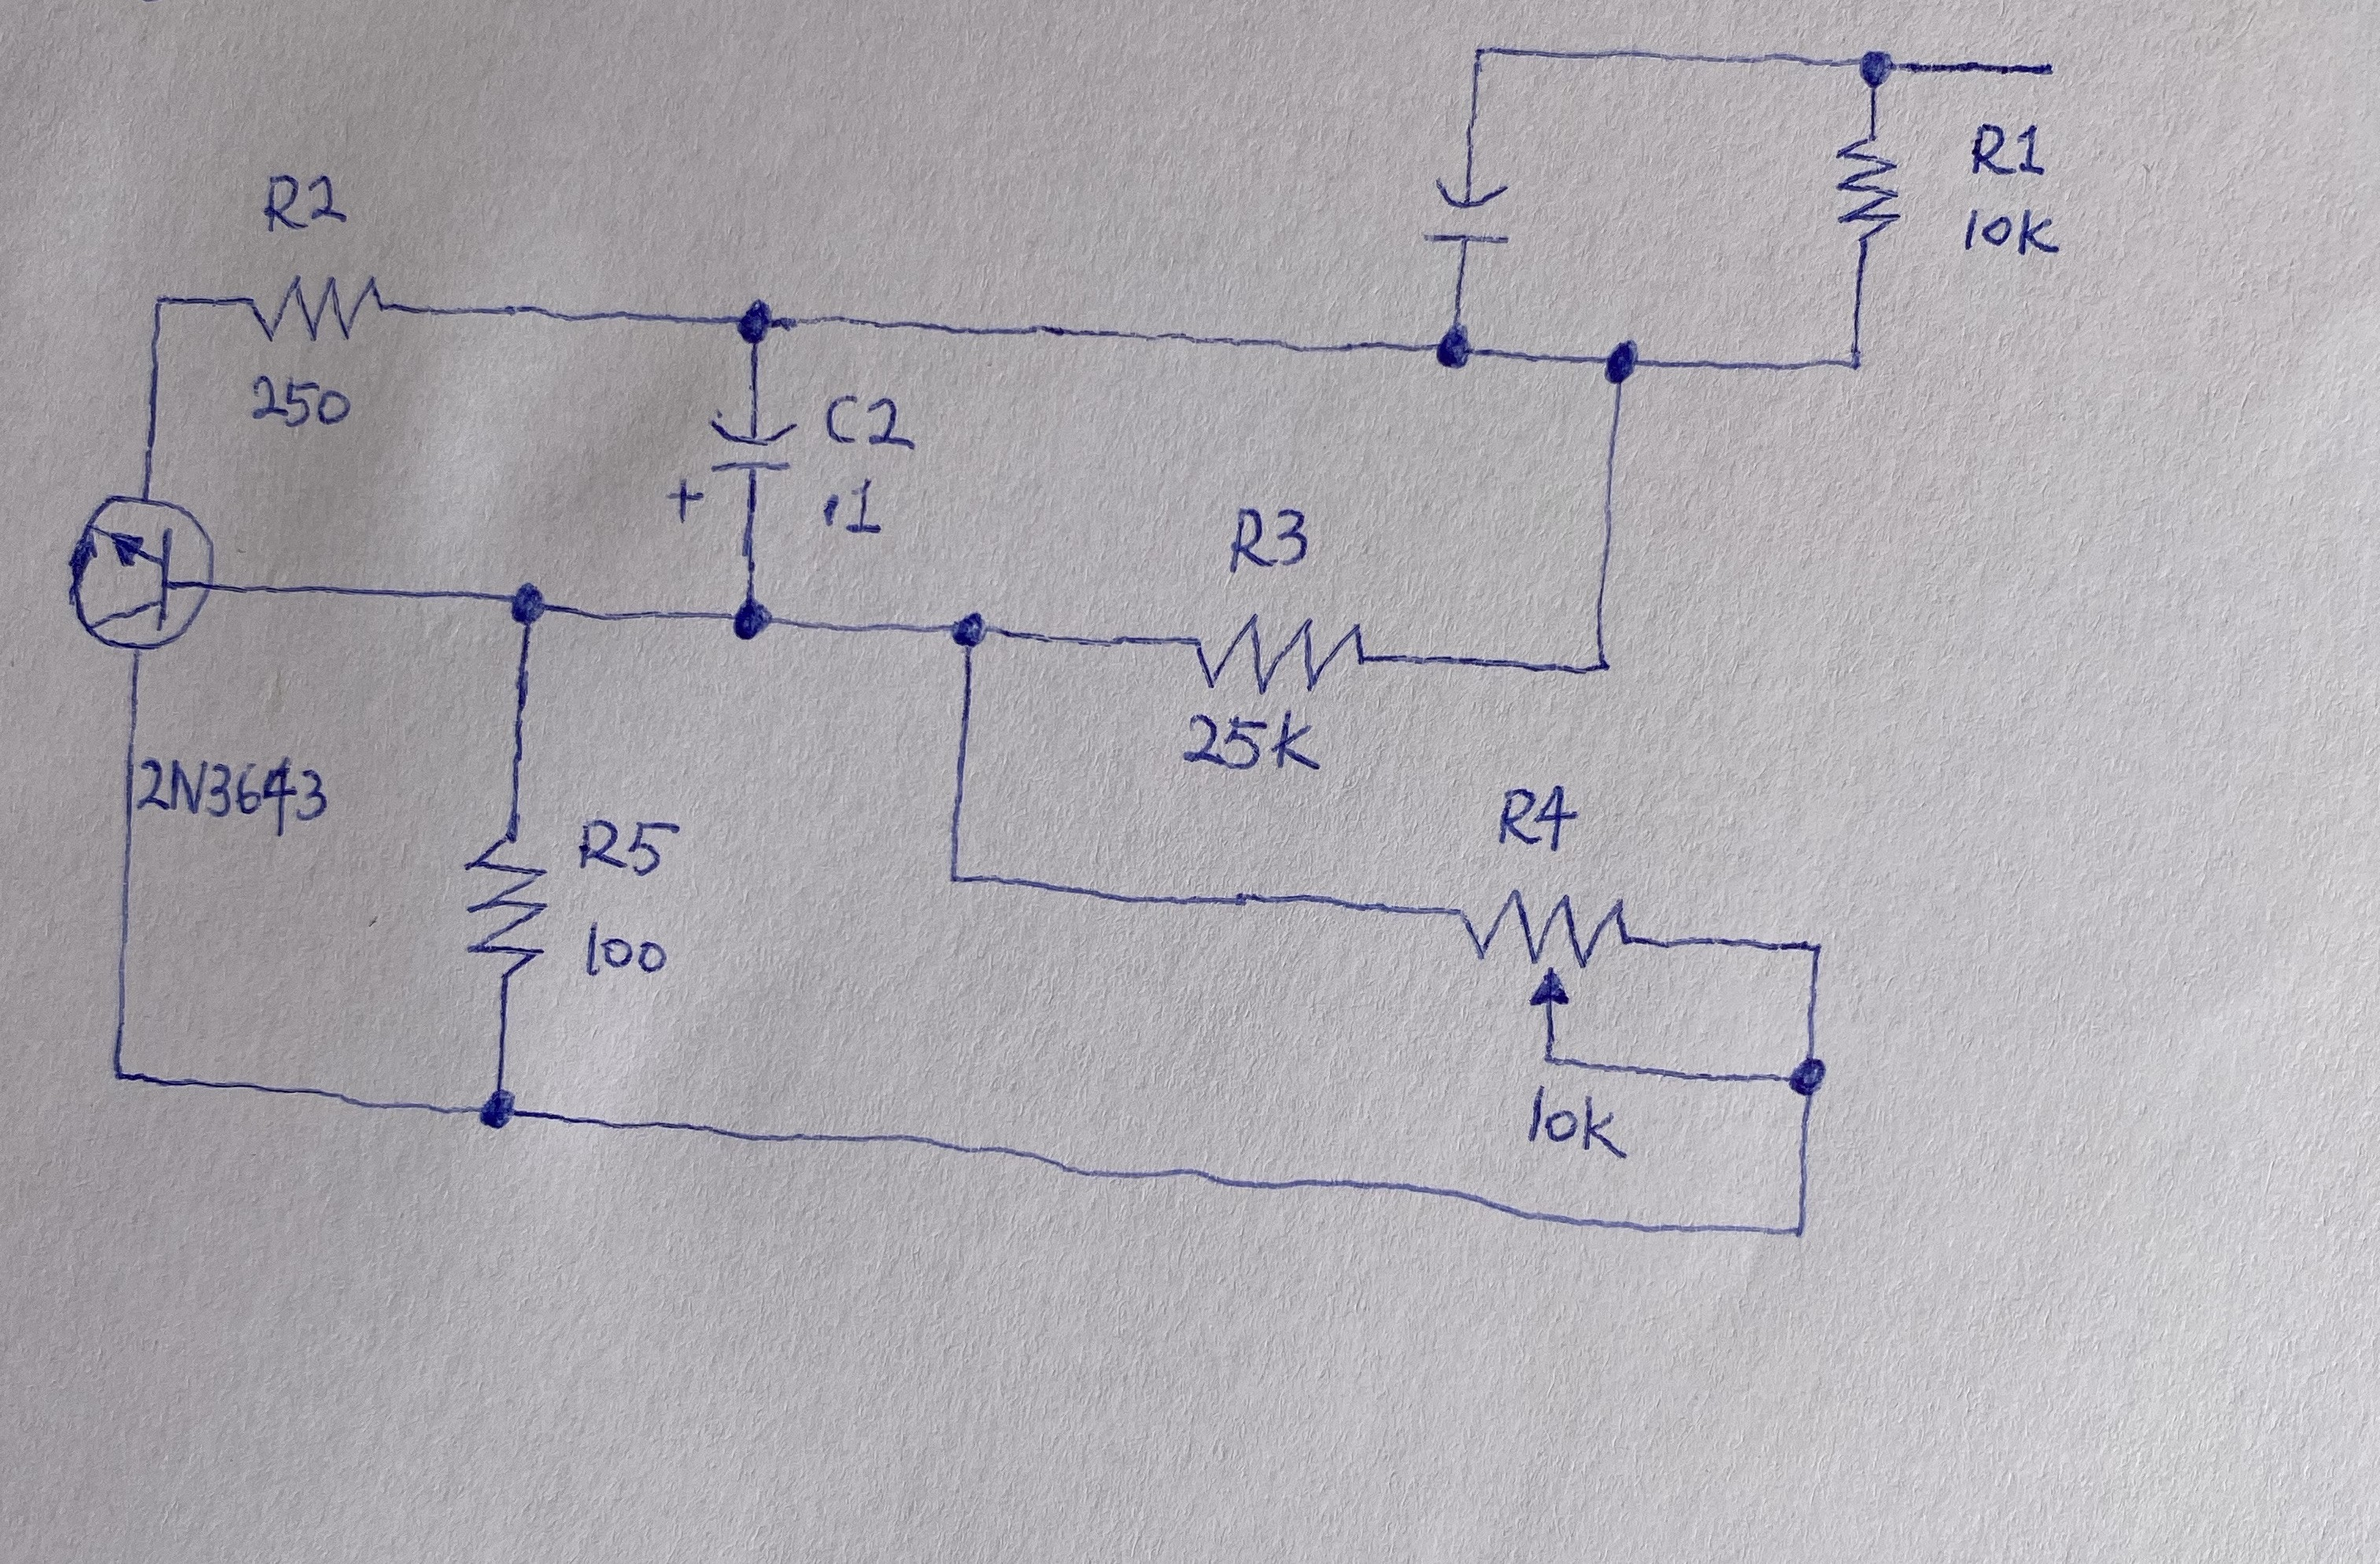capacitor.polarized: (663, 407, 799, 524)
capacitor.unpolarized: (1419, 175, 1520, 253)
junction: (1415, 305, 1497, 384), (721, 285, 801, 358), (1583, 318, 1654, 396), (712, 586, 789, 653), (1776, 1039, 1841, 1117), (1762, 1196, 1836, 1262), (461, 1075, 536, 1140), (1841, 35, 1911, 101), (1816, 328, 1883, 391), (496, 571, 557, 634), (935, 604, 1002, 656), (89, 1049, 147, 1103), (1787, 922, 1839, 976), (140, 281, 183, 332), (930, 855, 981, 897), (1457, 33, 1501, 80), (1530, 1040, 1565, 1080), (1588, 653, 1619, 683)
resistor: (1162, 609, 1384, 702), (455, 826, 555, 993), (246, 265, 403, 354), (1834, 129, 1907, 264)
resistor.adjustable: (1453, 881, 1640, 1011)
terminal: (2007, 47, 2096, 89)
text: (136, 752, 333, 841), (1176, 710, 1330, 789), (572, 799, 691, 885), (1520, 1080, 1633, 1164), (1490, 773, 1583, 861), (820, 379, 925, 456), (1218, 503, 1324, 578), (1958, 197, 2064, 267), (1958, 112, 2057, 185), (260, 162, 352, 241), (244, 374, 356, 436), (565, 922, 679, 981), (815, 475, 897, 538)
transistor: (63, 485, 223, 658)
